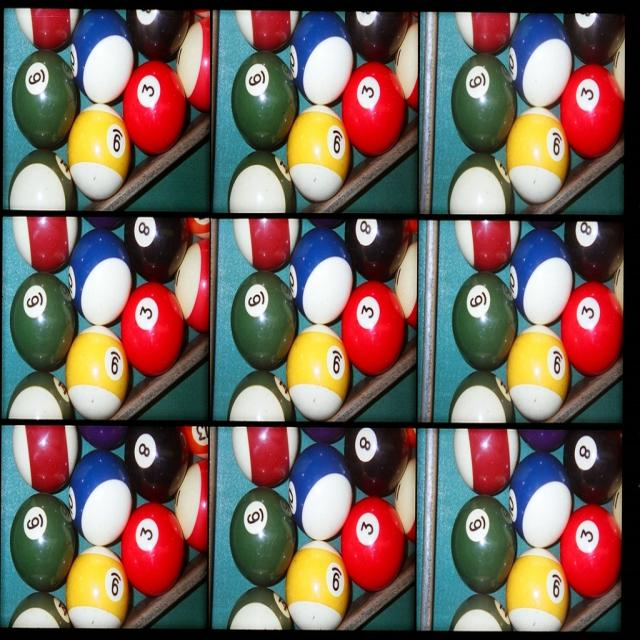Ball: (6, 8, 625, 630)
Billiard table: (1, 8, 625, 630)
